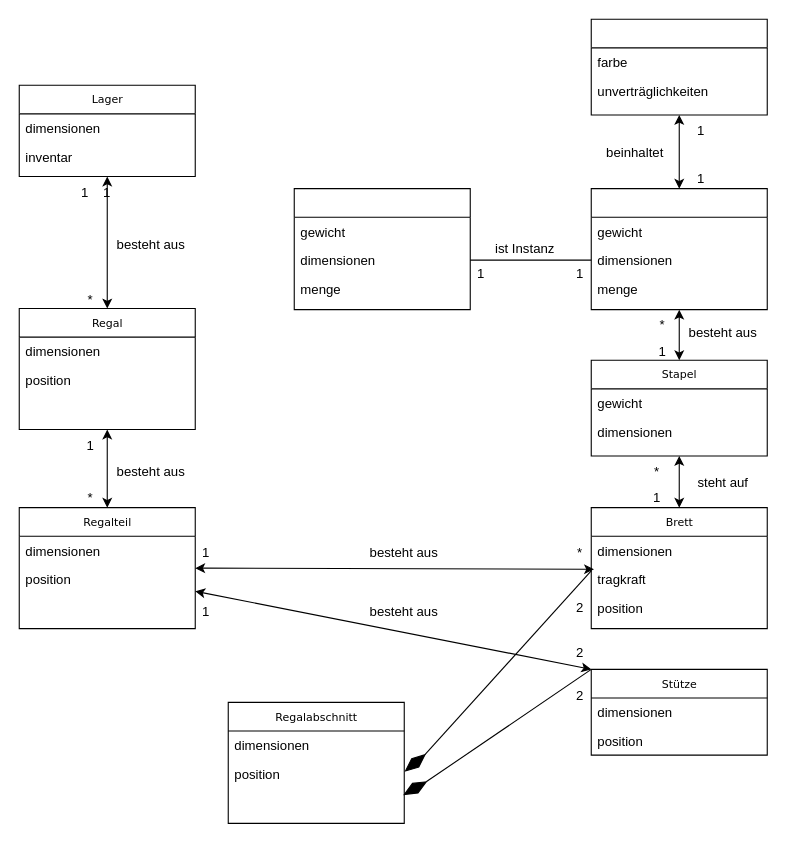
Some shapes in this 787 by 843 pixel diagram are drawn without their labels. Here are the shapes that lost their labels. From the top down, the box of each, then its label:
(590, 18, 767, 115): «enum» Zutaten
(293, 188, 470, 310): Template
(590, 188, 767, 310): Paket
